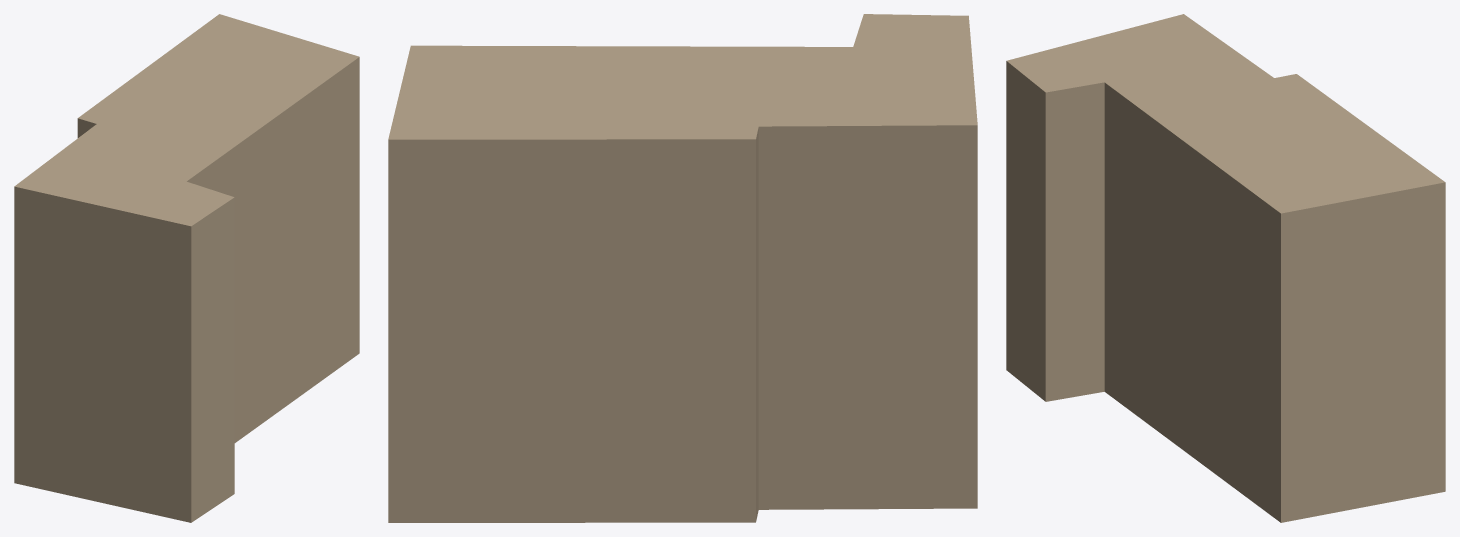
The model's file is bld_99520340.dae.
The picture shows the model from 3 angles, left to right: view 1: azimuth 30°, elevation 25°; view 2: azimuth 150°, elevation 25°; view 3: azimuth 270°, elevation 25°; orthographic projection. The views are drawn at different scales.
Parts seen in each view (by area): view 1: bld_99520340; view 2: bld_99520340; view 3: bld_99520340.
Part boxes in pixels (bbox=[...]): bld_99520340: bbox=[14, 14, 359, 522]; bld_99520340: bbox=[388, 14, 977, 522]; bld_99520340: bbox=[1006, 14, 1445, 522].
Bounding box in the file's own units: 11.07 × 10.29 × 8.
